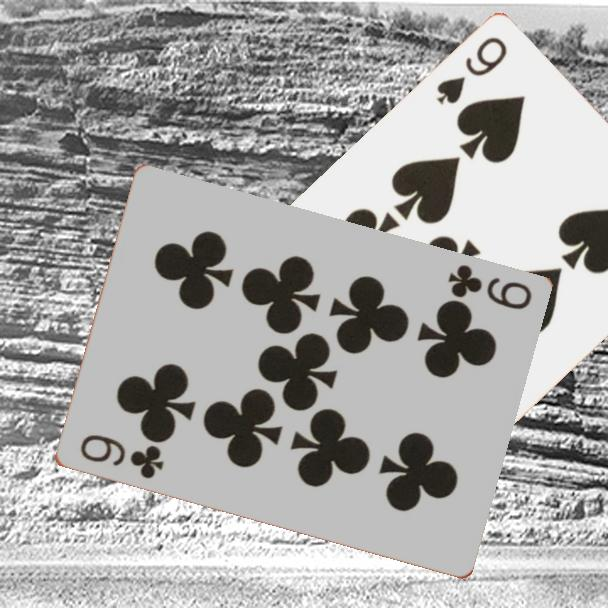c09: (443, 261, 534, 313), (76, 431, 166, 483)
s09: (432, 34, 511, 108)
